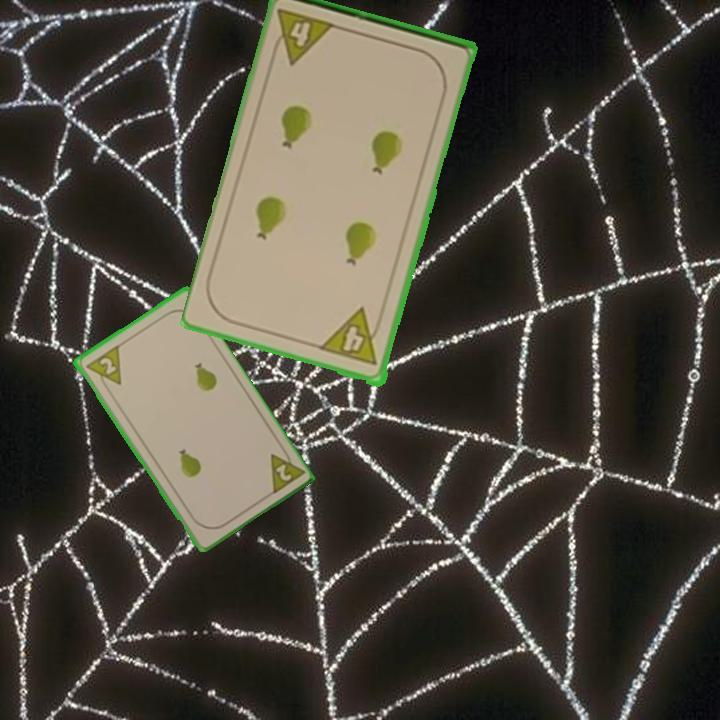2p: (266, 442, 306, 498), (82, 342, 124, 395)
4p: (267, 5, 338, 69), (318, 306, 387, 369)
